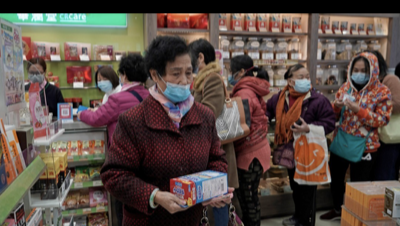mask_weared_incorrect: (159, 63, 193, 103)
with_mask: (293, 72, 313, 93), (352, 64, 372, 85), (28, 68, 46, 84), (228, 66, 241, 86), (98, 75, 111, 91)
